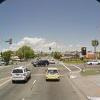Car: (40, 65, 66, 80)
